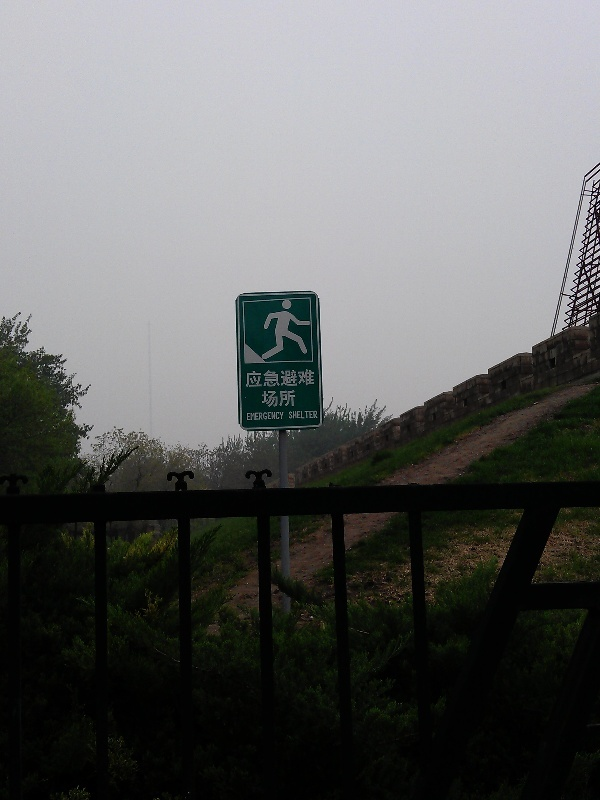text: (257, 369, 272, 388), (273, 369, 288, 388), (289, 369, 304, 388), (273, 390, 288, 408), (245, 369, 256, 388), (305, 369, 315, 388), (262, 390, 272, 408), (257, 411, 272, 422), (289, 390, 297, 408), (289, 411, 304, 420), (273, 411, 285, 422), (305, 411, 319, 420), (246, 411, 256, 422)
